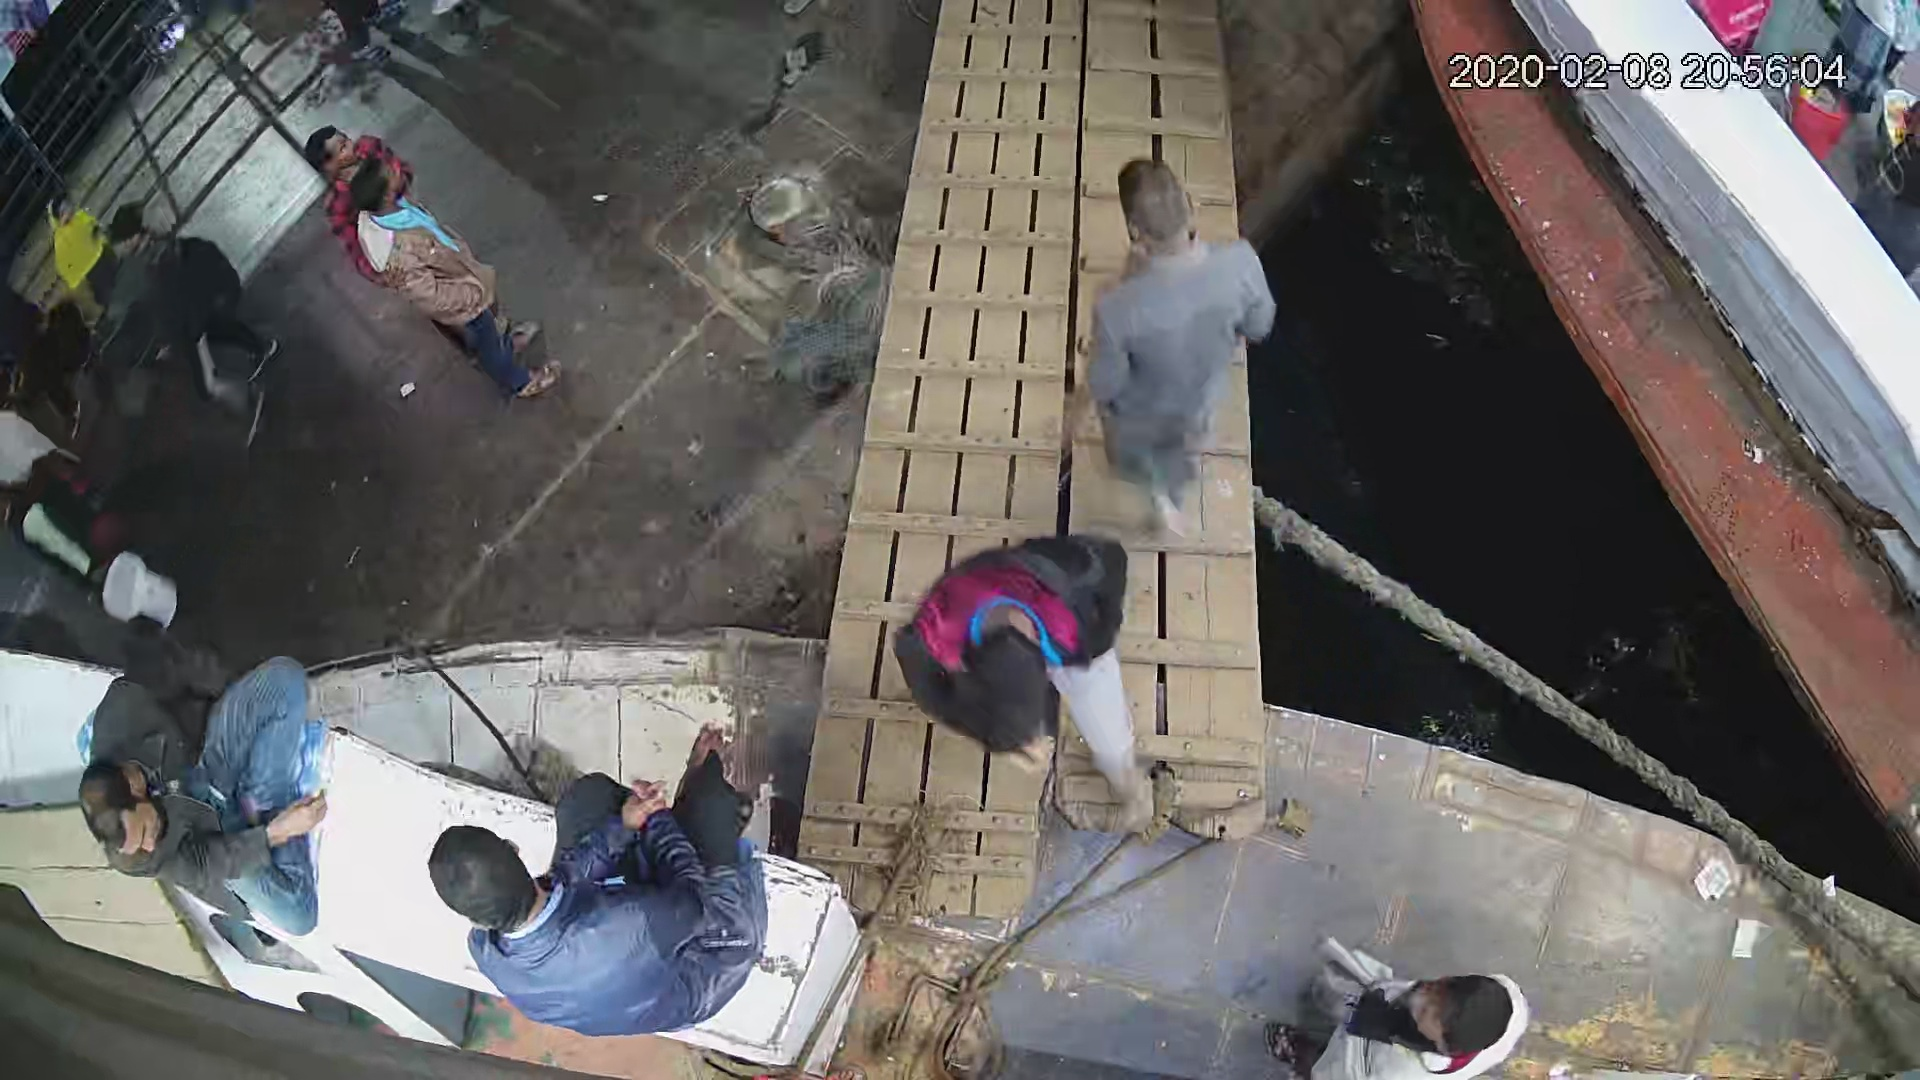person: (419, 718, 771, 1028), (873, 524, 1157, 840), (1057, 149, 1278, 521), (71, 648, 333, 945), (345, 157, 567, 405), (1255, 927, 1533, 1080), (107, 206, 288, 433), (34, 182, 129, 302)
